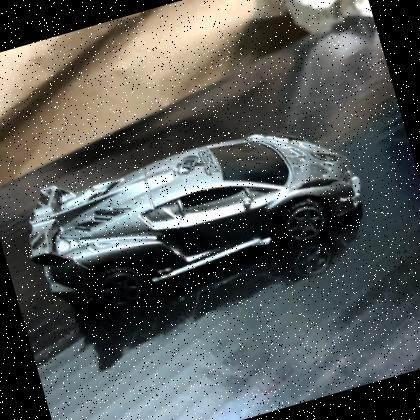Car: (28, 134, 362, 309)
